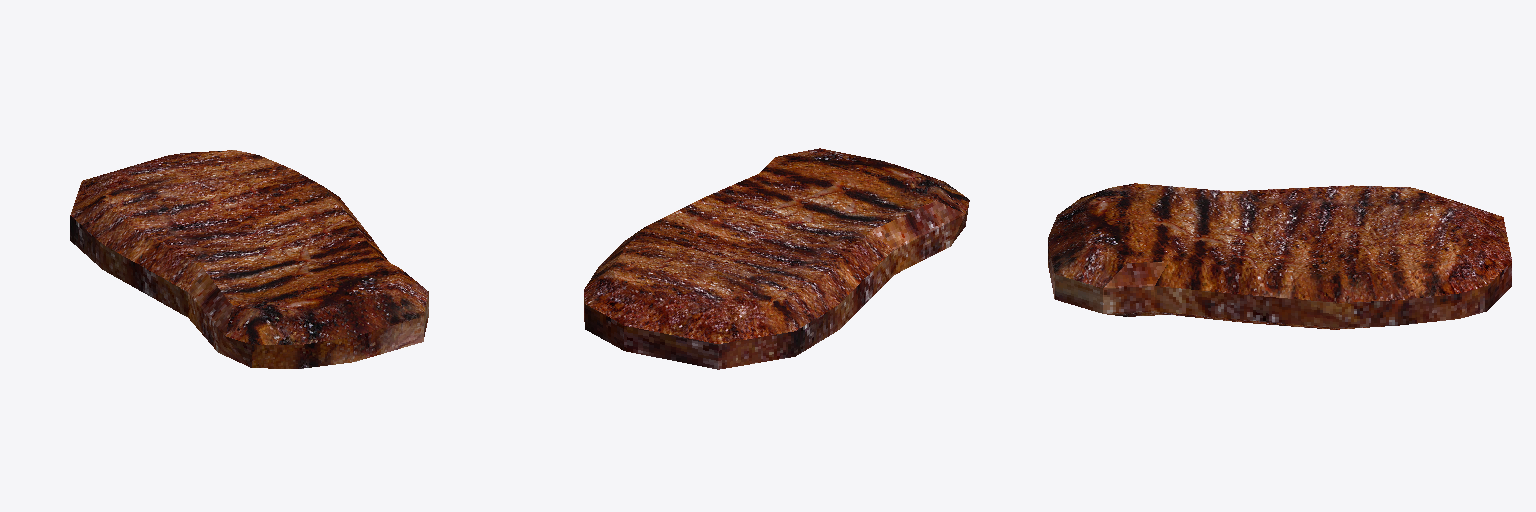
The picture shows the model from 3 angles: view 1: azimuth 30°, elevation 25°; view 2: azimuth 150°, elevation 25°; view 3: azimuth 270°, elevation 25°; orthographic projection.
Parts seen in each view (by area): view 1: cookedBeef; view 2: cookedBeef; view 3: cookedBeef.
Part boxes in pixels (left/top/right/bottom): cookedBeef: left=70, top=150, right=428, bottom=368; cookedBeef: left=584, top=148, right=969, bottom=369; cookedBeef: left=1048, top=183, right=1511, bottom=329.
Size of the model in its own units: 15.64 by 4.37 by 27.54.
Materials: 1 (1 with a texture image).